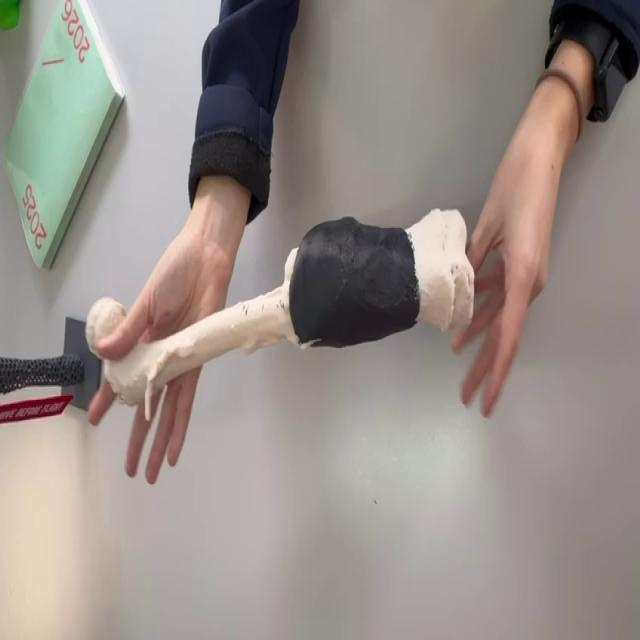bones: (104, 210, 473, 419)
